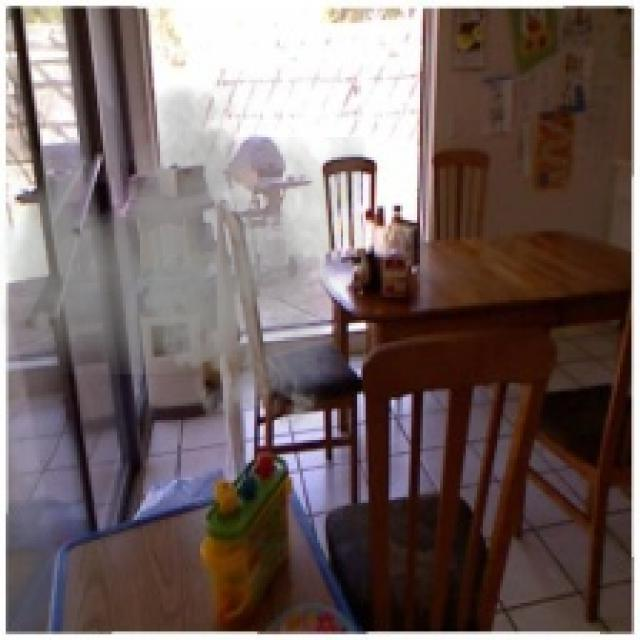smoke: (0, 71, 366, 440)
